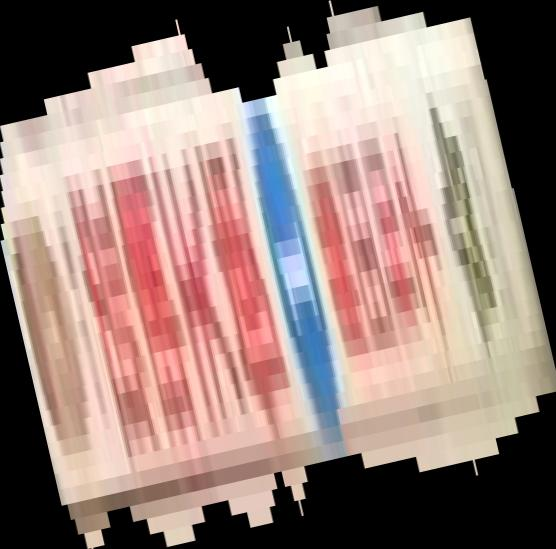flat: (1, 1, 556, 549)
